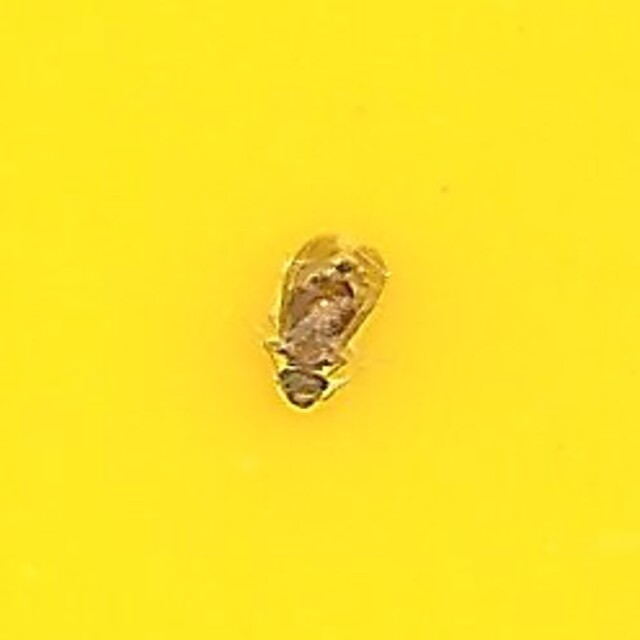Hymenoptera: (258, 225, 382, 415)
